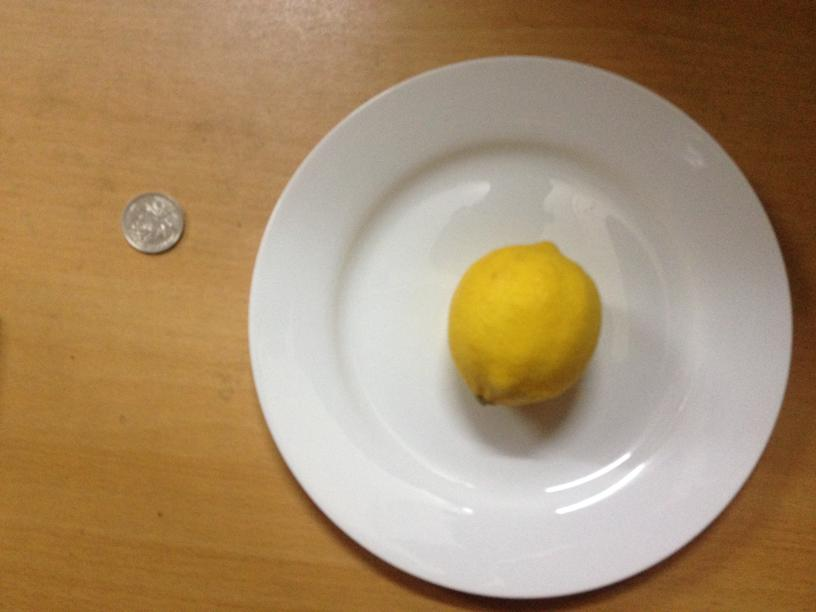coin: (123, 190, 182, 255)
lemon: (448, 242, 598, 406)
